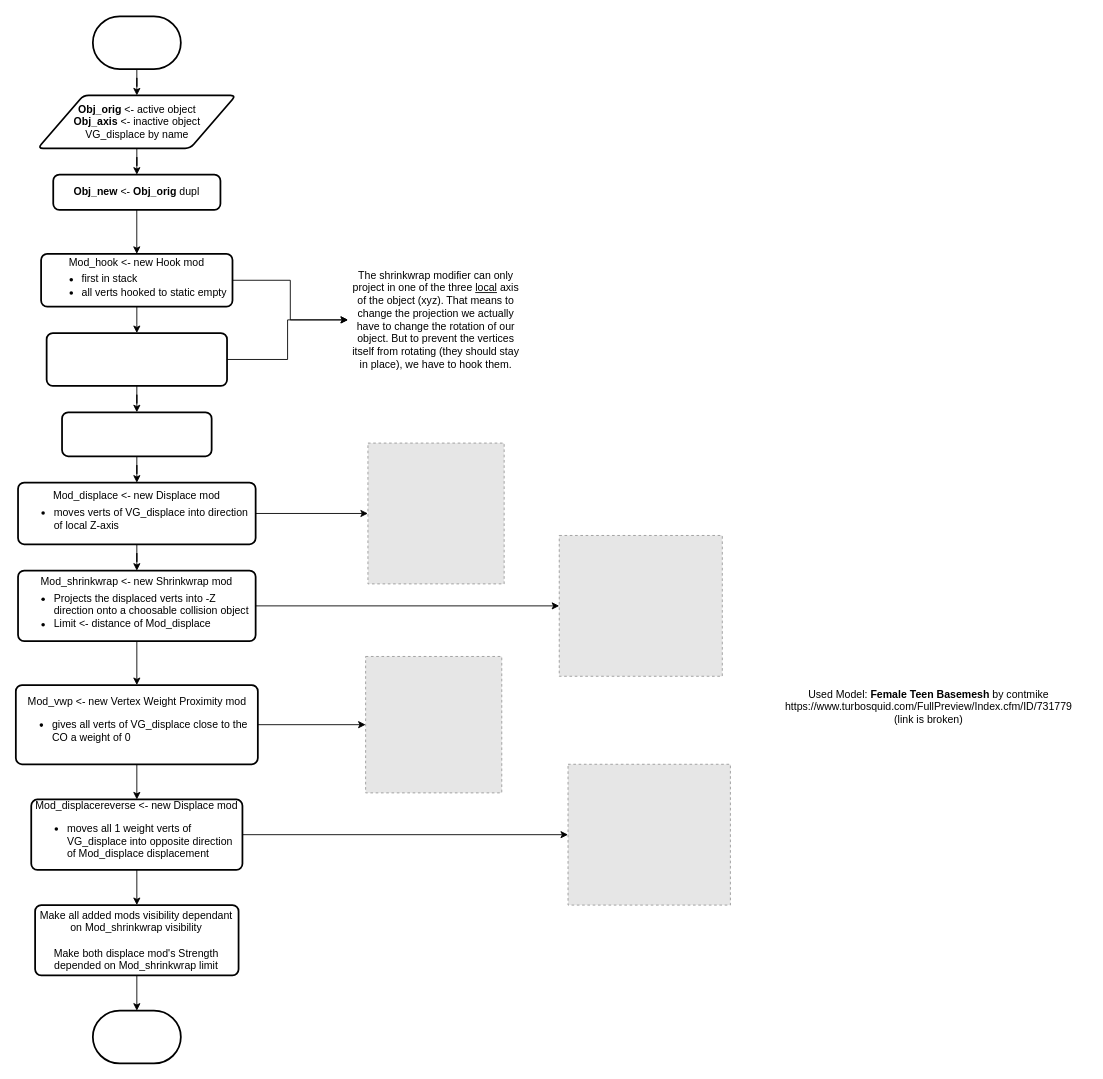
This 1103x1079 diagram has some shape labels left out. Grey dashed boxes stand in for pictures. The centre of each missing label's shape, as x and y in pixels:
copy rotation from Obj_axis to Obj_new via constraint: the point at 136,359
End: the point at 136,1036
make sure all weights of VG_displace are 1: the point at 136,434
start: the point at 136,42
